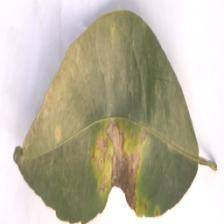canker: (69, 98, 160, 211)
